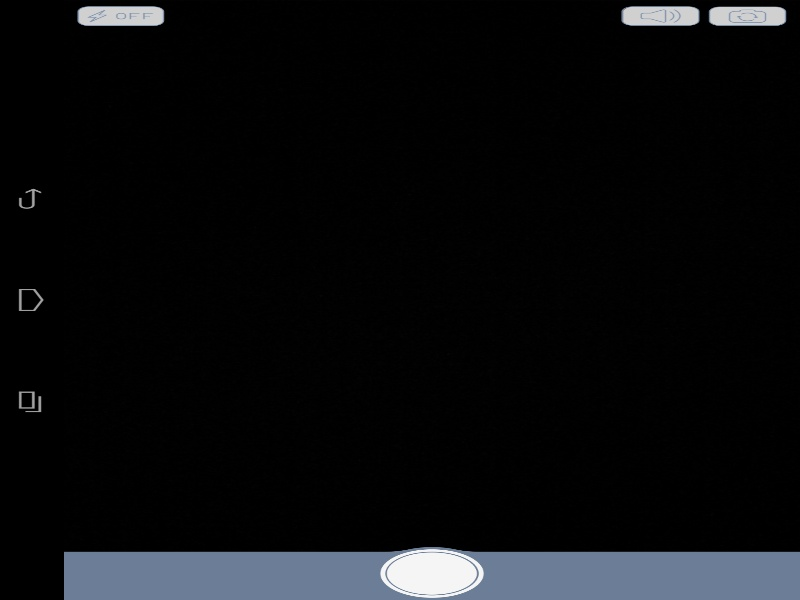Button: (274, 530, 358, 570), (524, 530, 608, 570), (191, 530, 274, 570), (358, 530, 441, 570), (441, 530, 524, 570), (0, 0, 101, 28), (656, 0, 728, 28), (728, 0, 800, 28)
